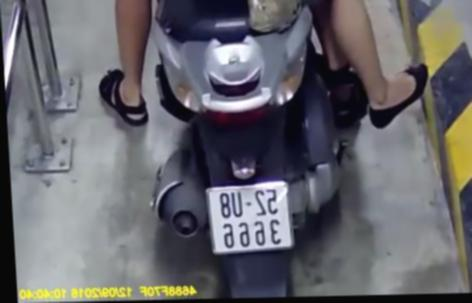License_Plate: (203, 178, 302, 259)
